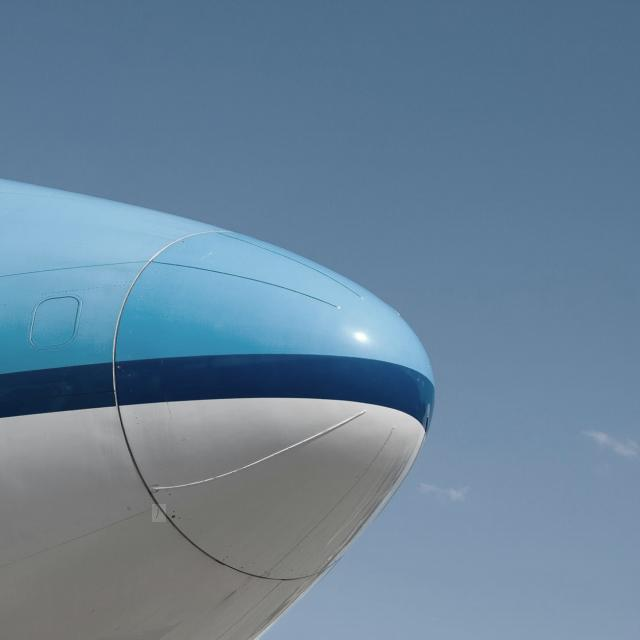crack: (153, 506, 167, 524)
